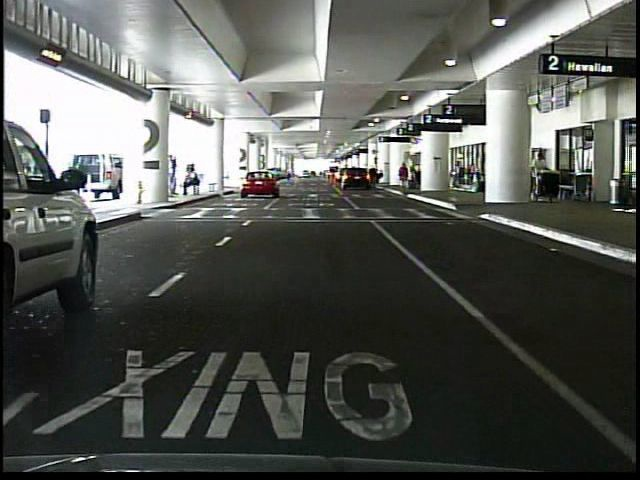person: (530, 149, 548, 200), (167, 150, 181, 200), (185, 167, 205, 197), (398, 161, 412, 192), (464, 162, 474, 195), (453, 162, 465, 189)
